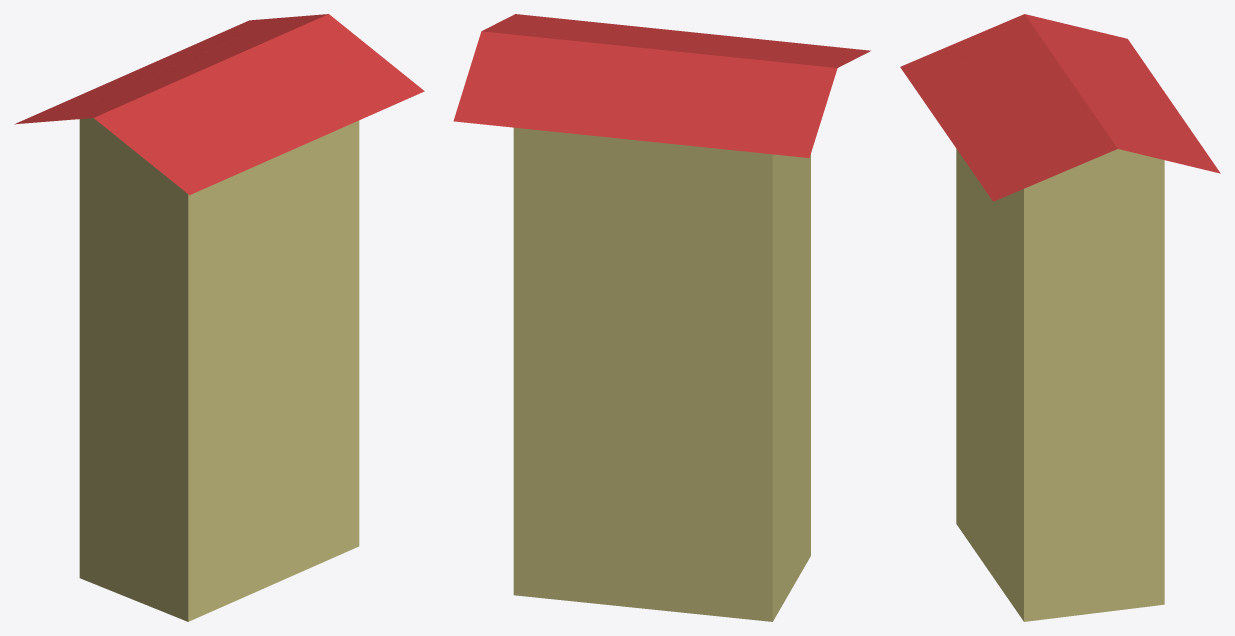
3 renders of one model, left to right at view 1: azimuth 30°, elevation 25°; view 2: azimuth 150°, elevation 25°; view 3: azimuth 270°, elevation 25°, orthographic. The views are drawn at different scales.
Size of the model in its own units: 4.25 by 3.54 by 5.86.
